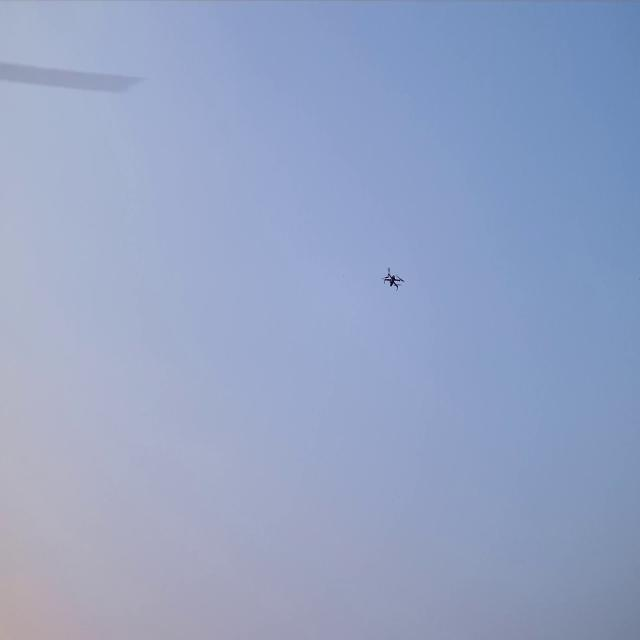UAV: (381, 266, 405, 292)
